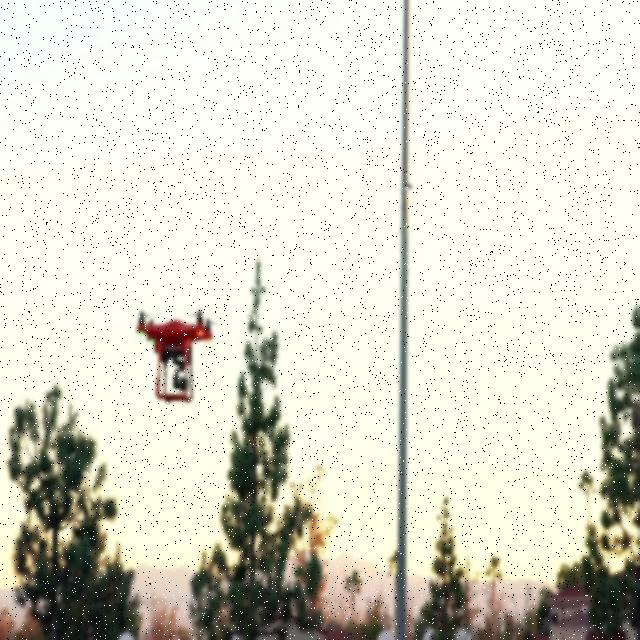UAV: (136, 309, 218, 403)
